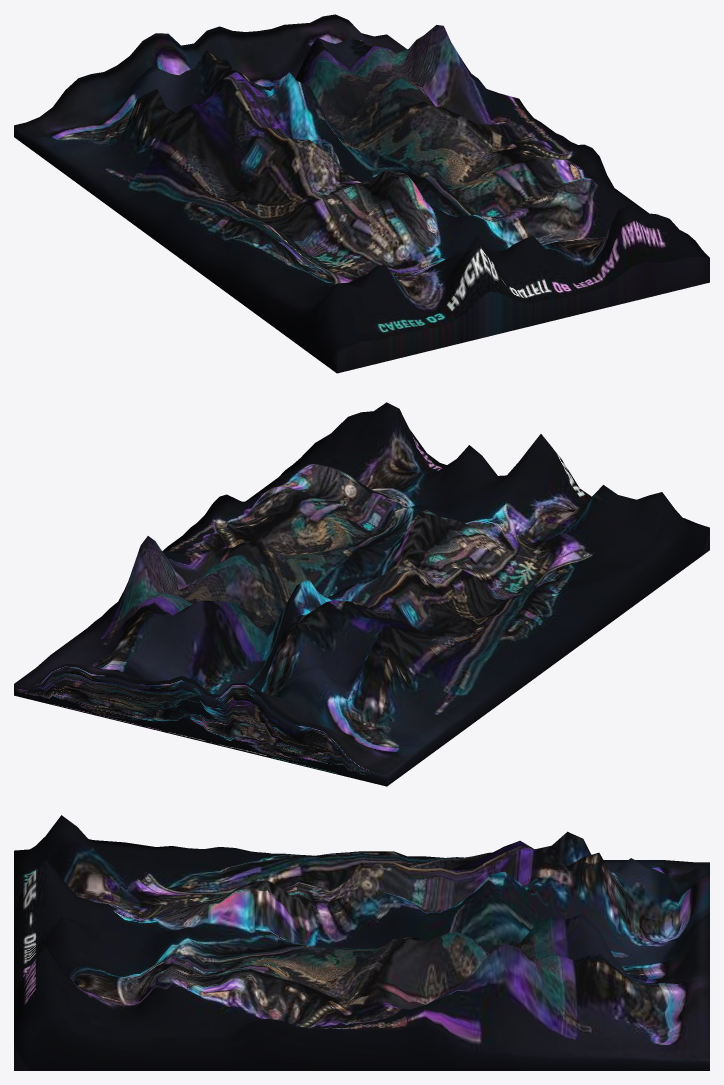
Rendered from CAREER_03_Outfit_08_Festival.glb.
3 renders of one model, top to bottom at view 1: azimuth 30°, elevation 25°; view 2: azimuth 150°, elevation 25°; view 3: azimuth 270°, elevation 25°, orthographic. The views are drawn at different scales.
Visible parts, largest first — view 1: CAREER_03_Outfit_08_Festival; view 2: CAREER_03_Outfit_08_Festival; view 3: CAREER_03_Outfit_08_Festival.
Boxes of the visible parts, box(x1,y1,x2,y2) form: CAREER_03_Outfit_08_Festival: box(14, 14, 709, 373); CAREER_03_Outfit_08_Festival: box(14, 402, 709, 786); CAREER_03_Outfit_08_Festival: box(14, 815, 709, 1070).
Size of the model in its own units: 2 by 0.51 by 3.
Materials: 1 (1 with a texture image).
